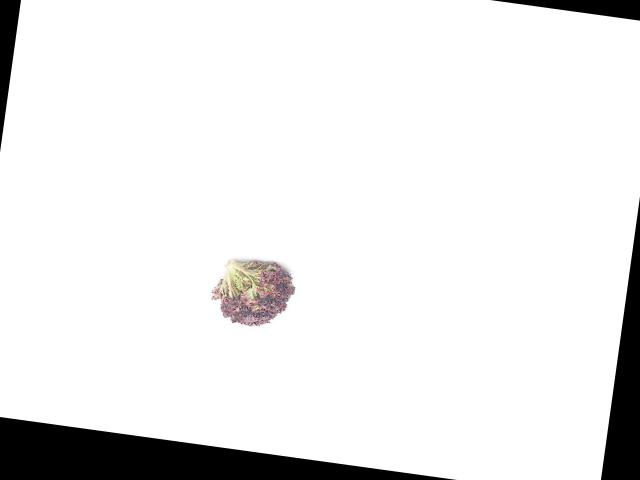lettuce: (212, 250, 302, 334)
